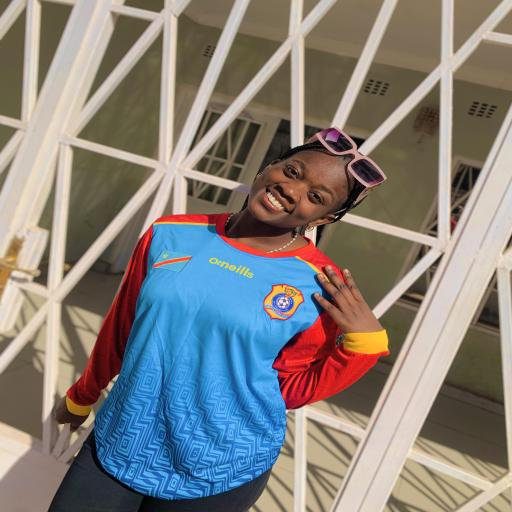LAURENE: (238, 123, 391, 238)
